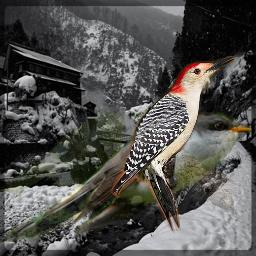Cuckoo: (0, 110, 251, 242)
Woodpecker: (110, 56, 234, 233)
